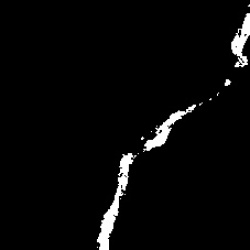crack: (96, 77, 233, 249), (231, 4, 249, 68)
